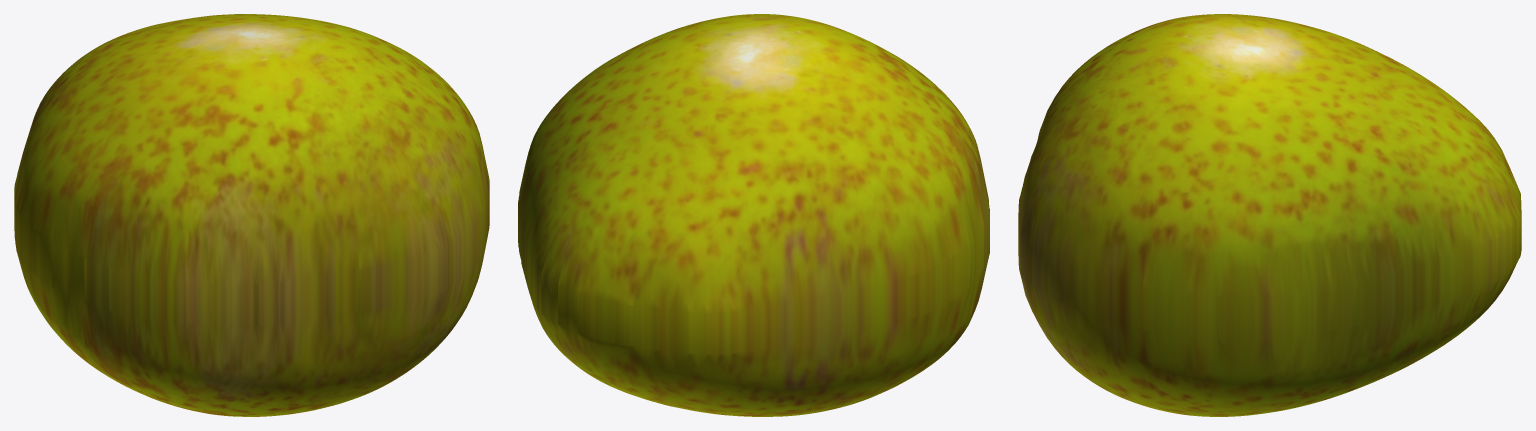
The model's file is green pear_8_0.obj.
The picture shows the model from 3 angles, left to right: view 1: azimuth 30°, elevation 25°; view 2: azimuth 150°, elevation 25°; view 3: azimuth 270°, elevation 25°; orthographic projection.
Visible parts, largest first — view 1: Grid; view 2: Grid; view 3: Grid.
Part boxes in pixels (box(x1,y1,x2,y2)): Grid: box(14, 14, 489, 416); Grid: box(518, 14, 989, 416); Grid: box(1018, 14, 1521, 416).
Bounding box in the file's own units: 1.51 × 1.2 × 1.58.
1 material, 1 textured.
